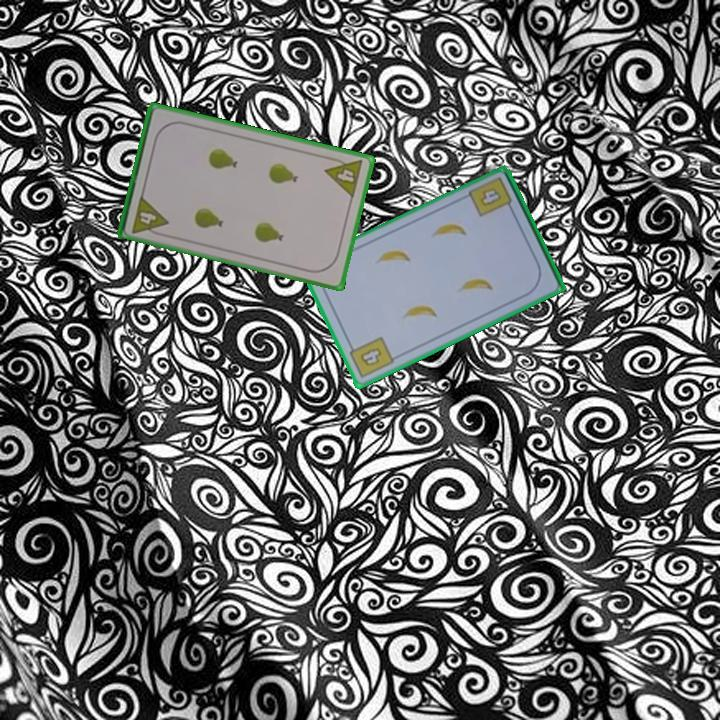4b: (345, 333, 397, 381), (465, 173, 516, 220)
4p: (322, 153, 366, 201), (128, 192, 171, 239)
